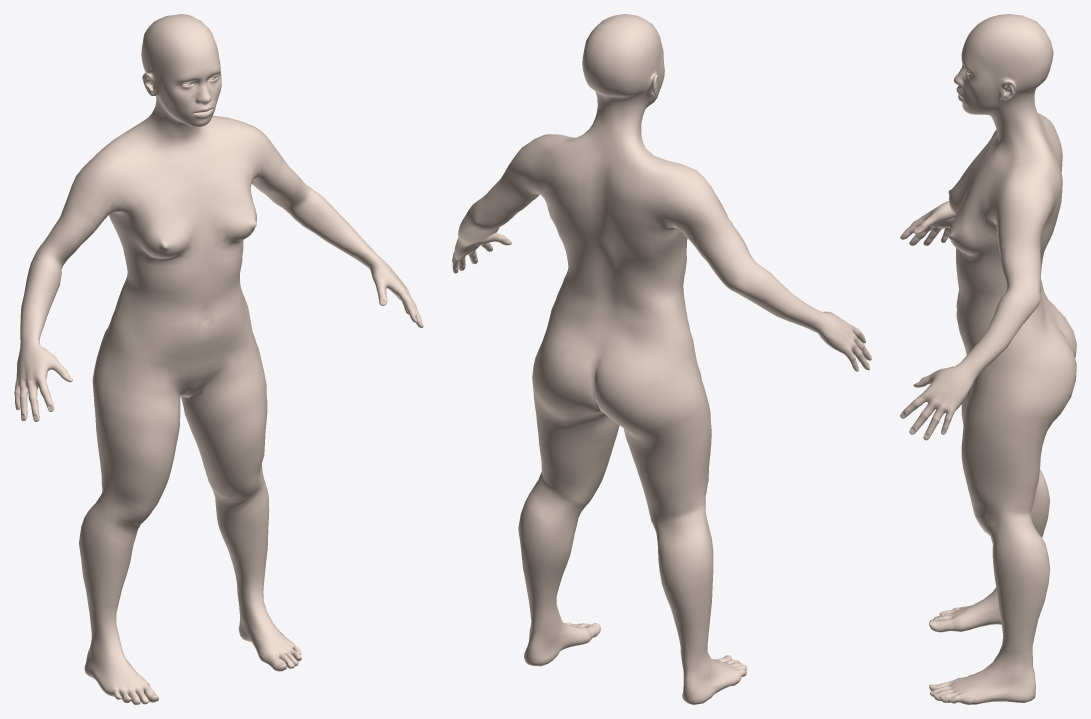
File: cuerpo_mujer.glb
The picture shows the model from 3 angles, left to right: view 1: azimuth 30°, elevation 25°; view 2: azimuth 150°, elevation 25°; view 3: azimuth 270°, elevation 25°; orthographic projection. The views are drawn at different scales.
Parts seen in each view (by area): view 1: cuerpo; view 2: cuerpo; view 3: cuerpo.
Part boxes in pixels (x1,y1,x2,y2): cuerpo: (14,14,423,704); cuerpo: (452,14,871,704); cuerpo: (900,14,1076,704).
Size of the model in its own units: 0.8043 by 1.24 by 0.3068.
